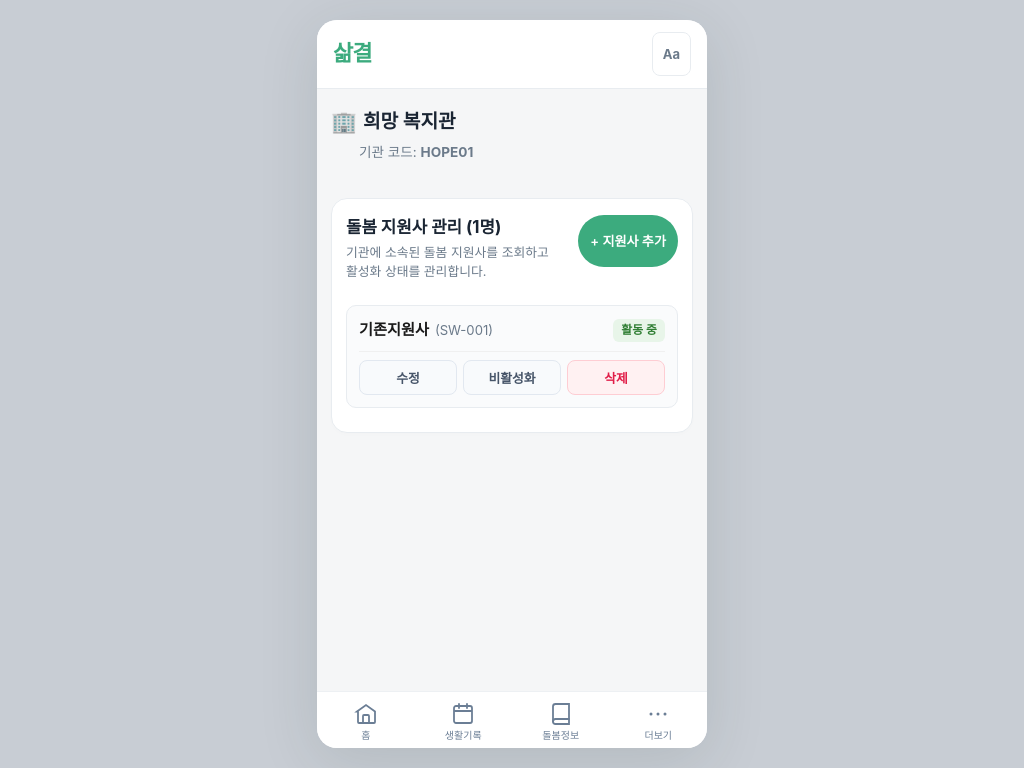
it: 돌봄 지원사 관리 탭에서 지원사를 추가할 수 있다
The image size is (1024, 768).
Expected: the text "기존지원사" is shown, [359,318,429,343]
+ 지원사 추가 버튼 클릭
Click the button "+ 지원사 추가".
click(628, 241)  # box [578,215,678,267]
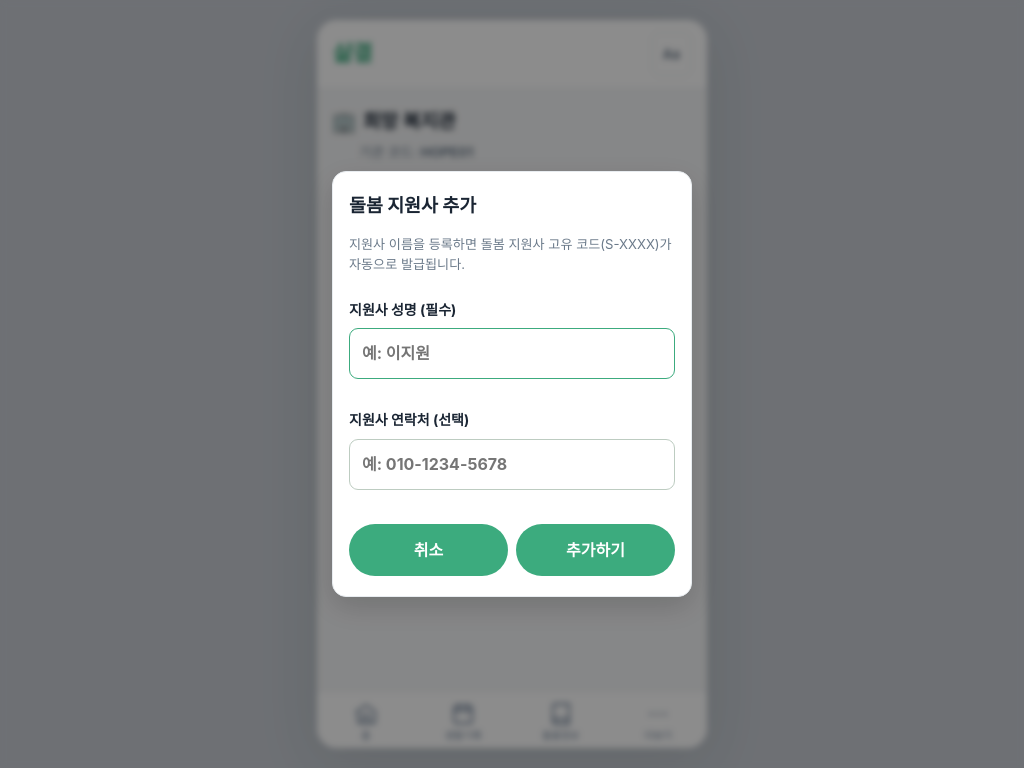
지원사 성명 입력
Type "새지원사" into the field labelled "지원사 성명 (필수)".
click(512, 354); type("새지원사")  # box [349,328,675,380]
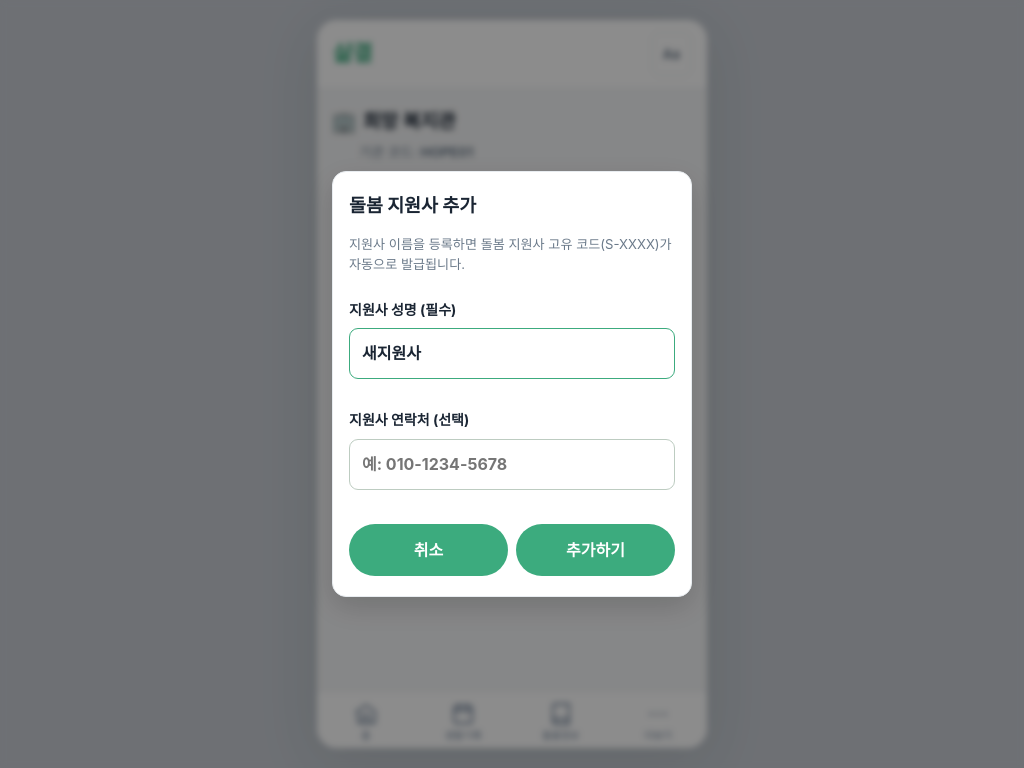
Click the button "추가하기".
click(596, 550)  # box [516,524,675,576]
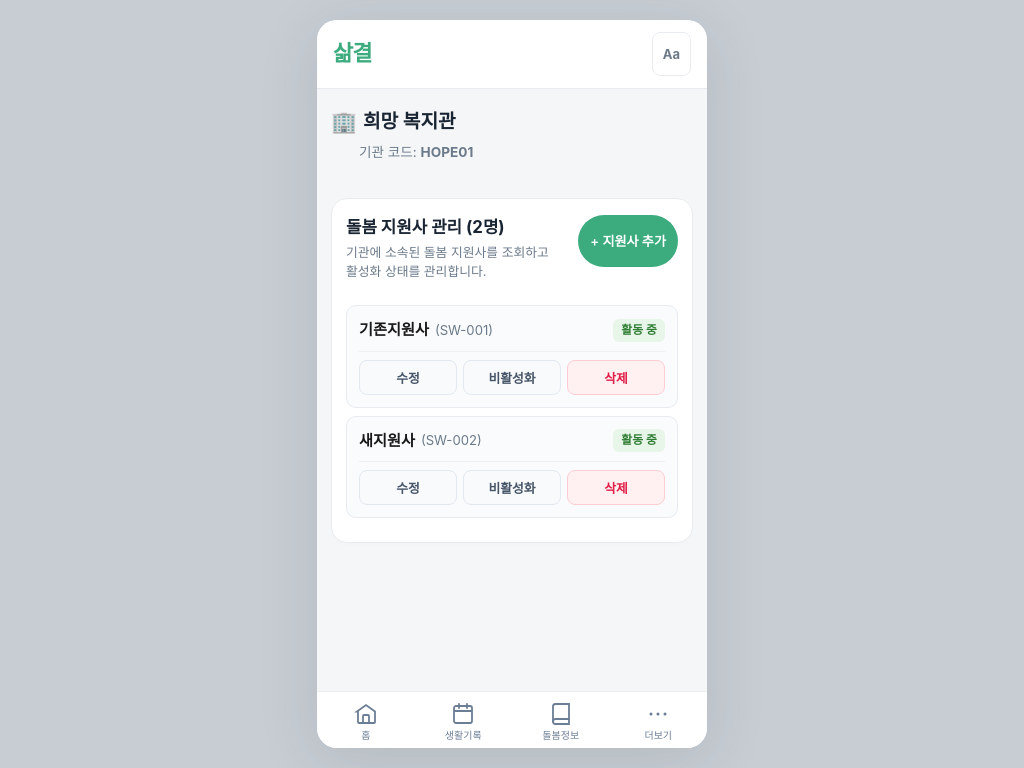
Now the text "새지원사" is shown, box [359,429,415,453]
